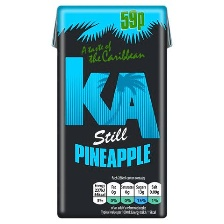carton: (45, 1, 183, 220)
